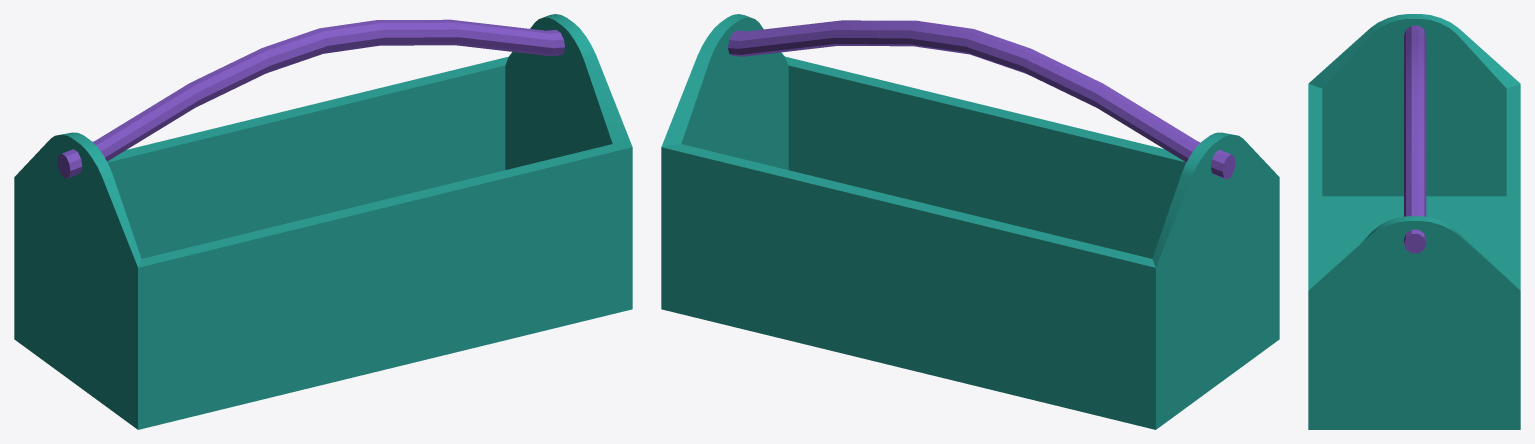
File: Tool_Box.fbx
The picture shows the model from 3 angles, left to right: view 1: azimuth 30°, elevation 25°; view 2: azimuth 150°, elevation 25°; view 3: azimuth 270°, elevation 25°; orthographic projection. The views are drawn at different scales.
Parts seen in each view (by area): view 1: Tool_Box; view 2: Tool_Box; view 3: Tool_Box.
Part boxes in pixels (left/top/right/bottom): Tool_Box: left=14, top=14, right=632, bottom=429; Tool_Box: left=661, top=14, right=1279, bottom=429; Tool_Box: left=1308, top=14, right=1520, bottom=429.
Bounding box in the file's own units: 60.65 × 33.19 × 25.28.
Materials: 1 (1 with a texture image).
